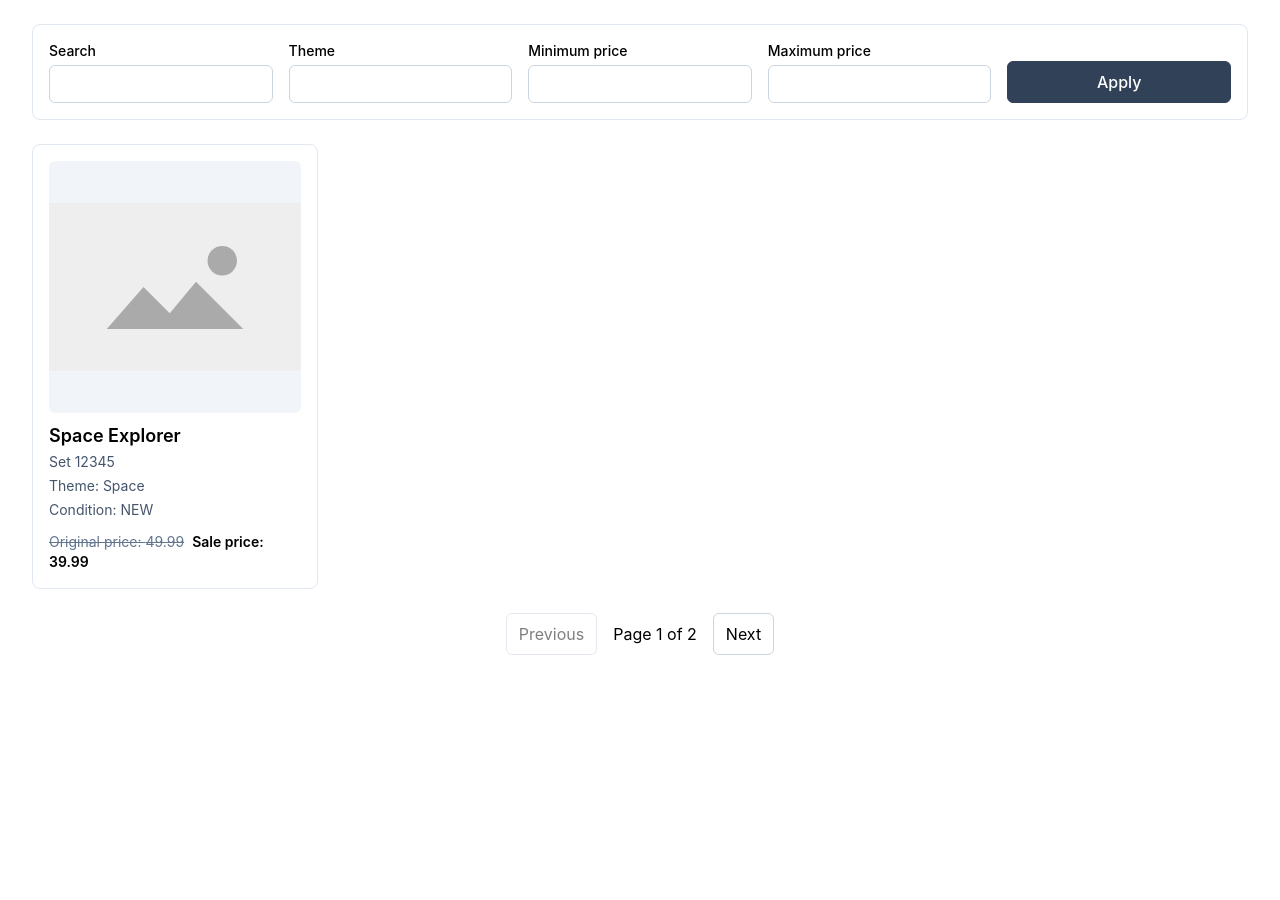
Test case: CataloguePage › scrolls the results section into view after successful pagination
The width and height of the screenshot is (1280, 900).
Expected: the text "Page 1 of 2" is shown, x1=613 y1=622 x2=697 y2=646
What coordinates should you click on to do the following:
click the button "Next"
I would click on:
 (743, 634)
Its box is x1=713 y1=612 x2=774 y2=654.
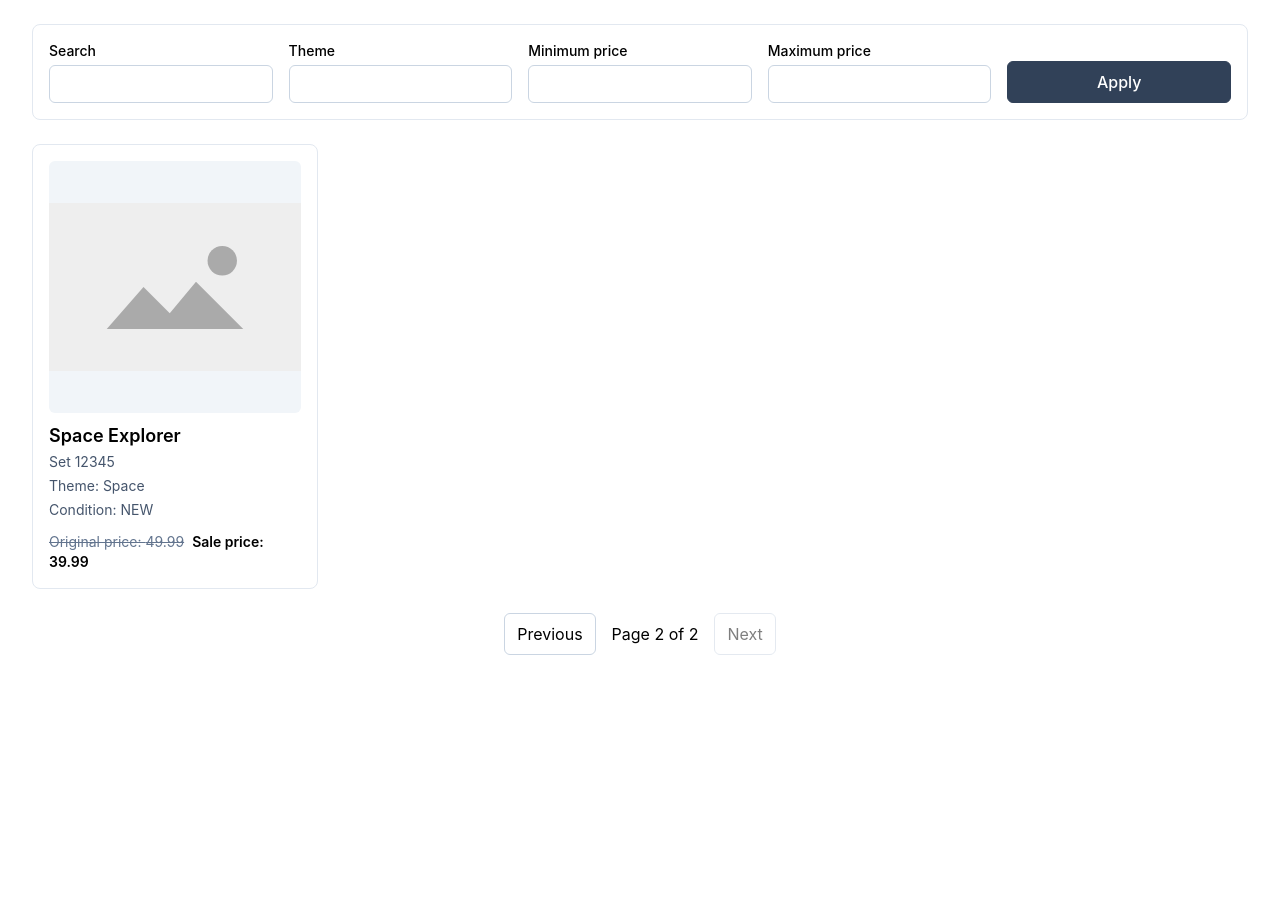
Expected: the text "Page 2 of 2" is shown, x1=612 y1=622 x2=698 y2=646
